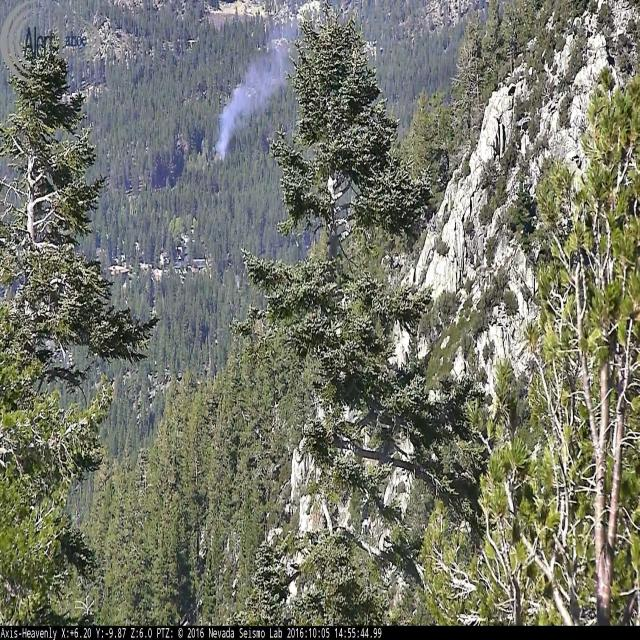smoke: (214, 44, 286, 162)
